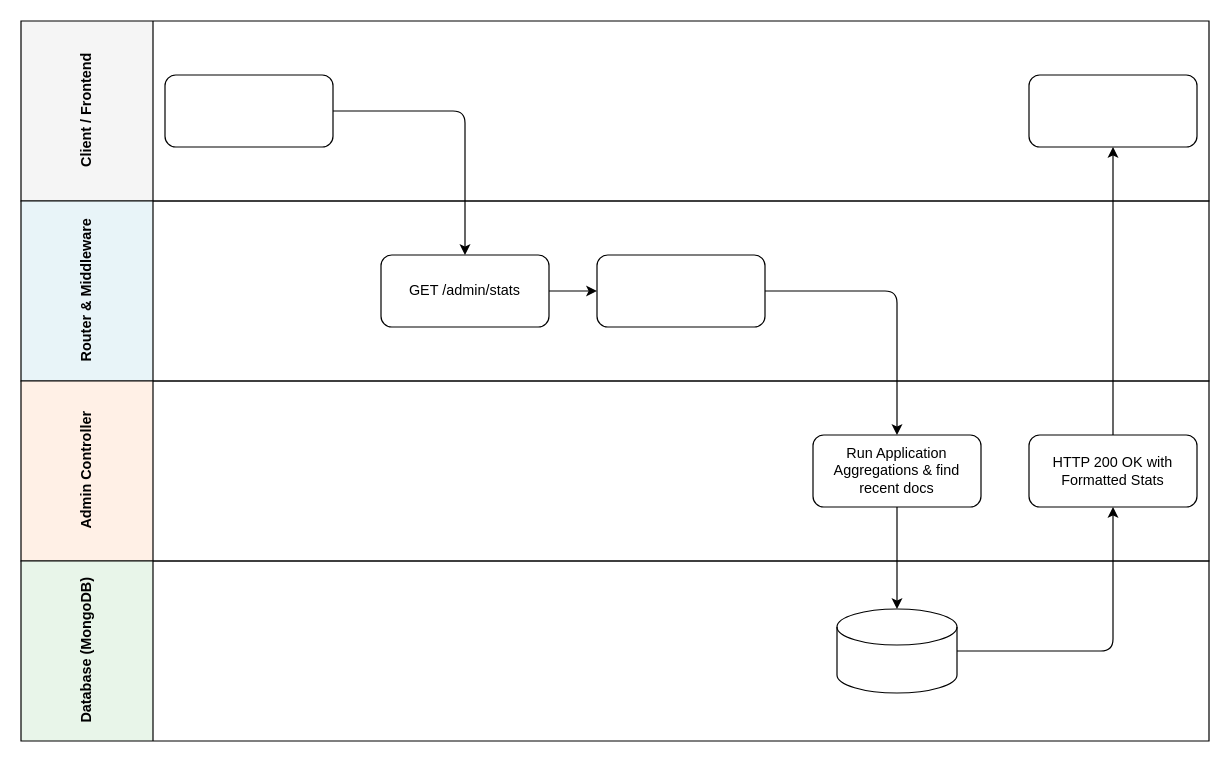
Some shapes in this 1230 by 762 pixel diagram are drawn without their labels. Each missing label, with the box of its shape:
Admin Dashboard Mounts: (164, 74, 333, 147)
Display stats counters & recent submissions list: (1028, 74, 1197, 147)
Group by status & Query top 5 apps: (836, 608, 957, 693)
verifyJWT & verifyAdmin: (596, 254, 765, 327)
